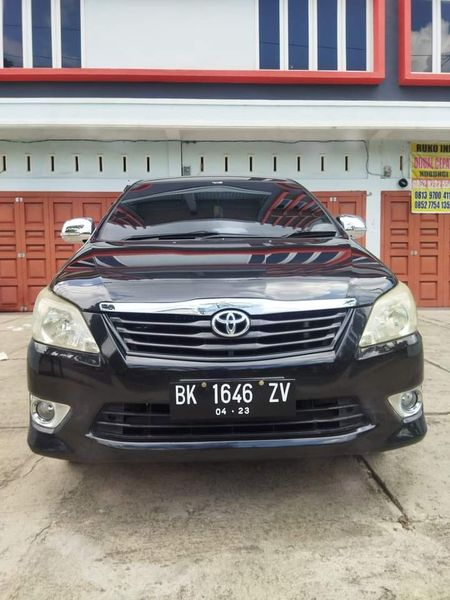plate: (171, 379, 298, 415)
